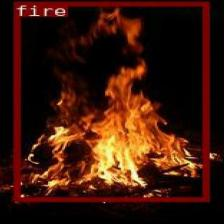fire: (12, 1, 208, 201)
